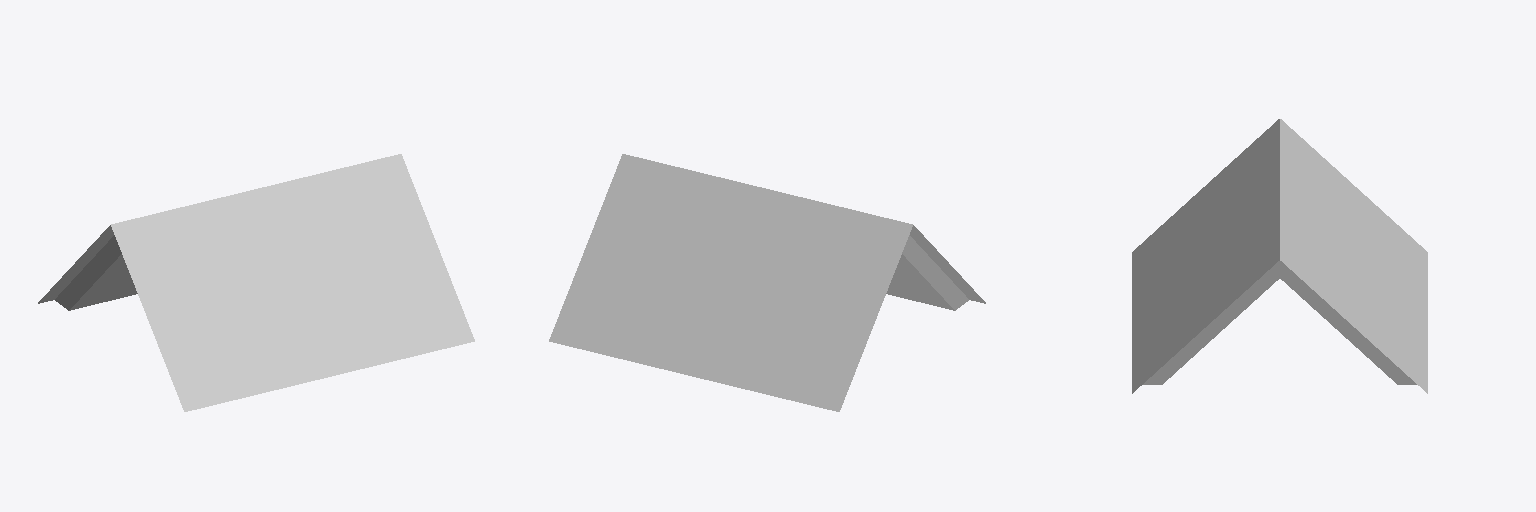
The model's file is roof-metal-type-a.obj.
The picture shows the model from 3 angles: view 1: azimuth 30°, elevation 25°; view 2: azimuth 150°, elevation 25°; view 3: azimuth 270°, elevation 25°; orthographic projection.
Parts seen in each view (by area): view 1: roof-metal-type-a; view 2: roof-metal-type-a; view 3: roof-metal-type-a.
Boxes of the visible parts, <box> form: roof-metal-type-a: <box>38,154,474,411</box>; roof-metal-type-a: <box>549,154,985,411</box>; roof-metal-type-a: <box>1132,119,1427,393</box>.
Size of the model in its own units: 1.14 by 0.5 by 1.